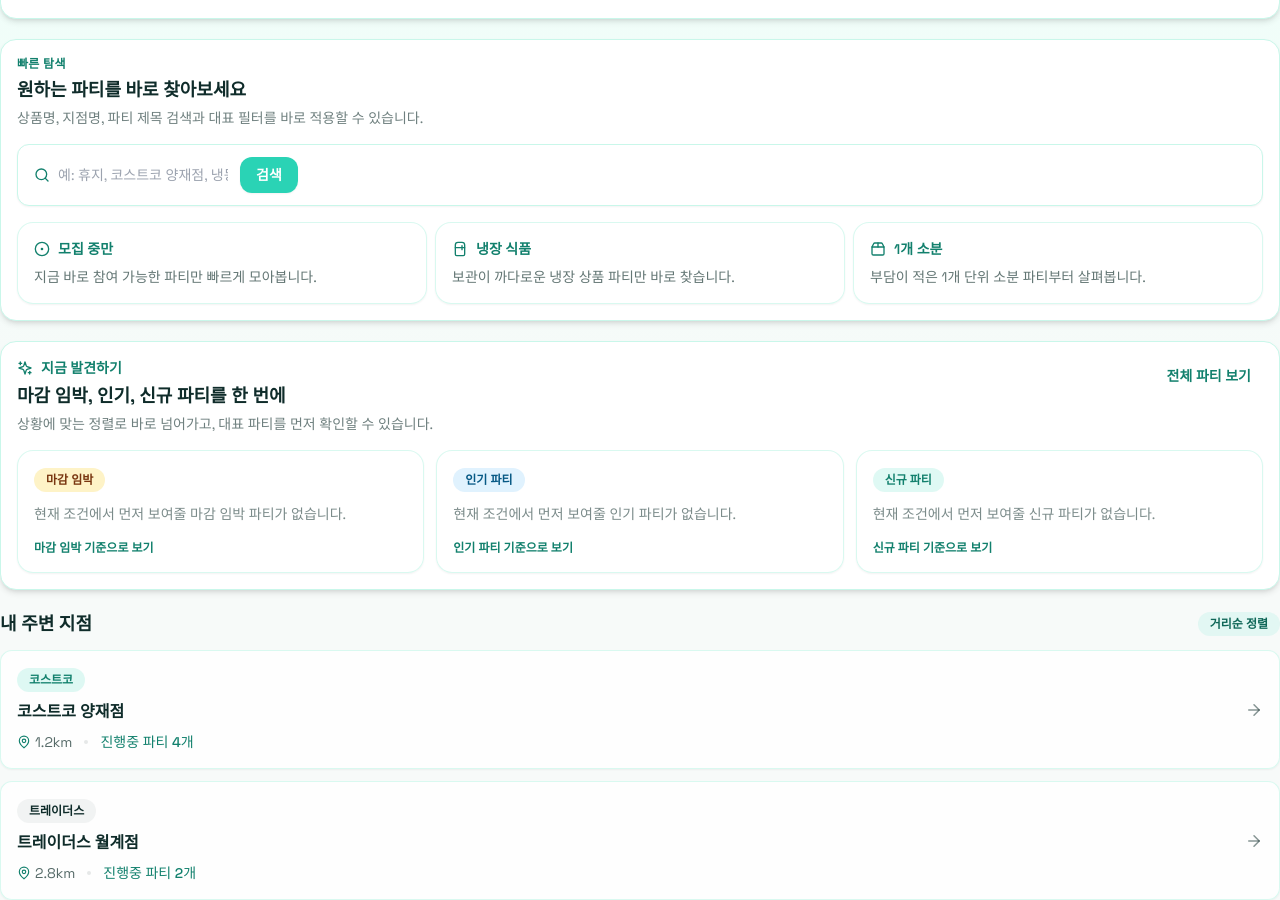
Scenario: Discovery and create flow › 홈_지점_탐색에서_생성_화면까지_선택한_지점을_유지한다
(page scrolled)
Click the button "트레이더스 트레이더스 월계점 2.8km 진행중 파티 2개".
click(640, 840)  # box [0,781,1279,899]
(page scrolled)
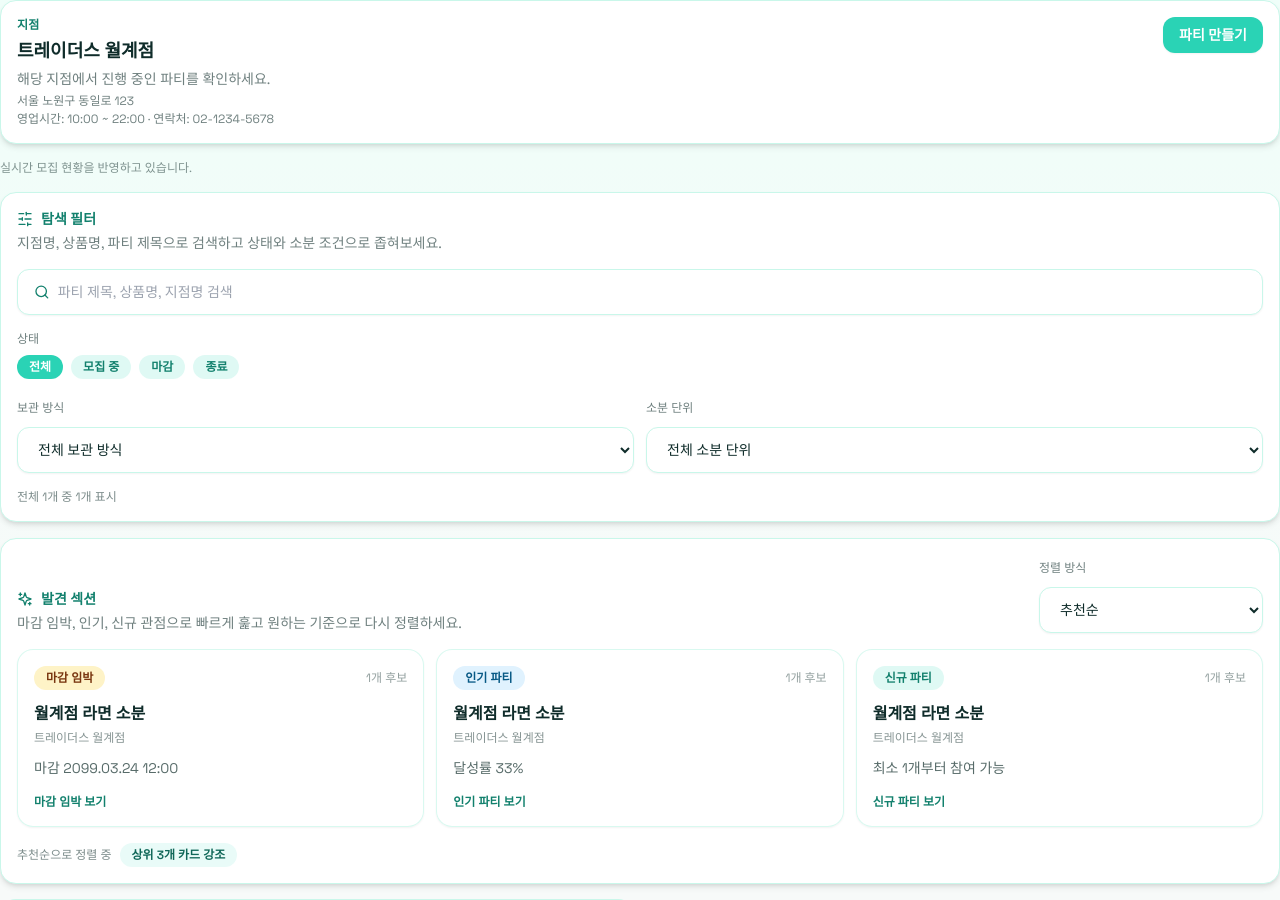
Expected: the heading "트레이더스 월계점" is shown, [17,39,154,62]
Click the button "파티 만들기".
click(1213, 35)  # box [1163,17,1263,53]
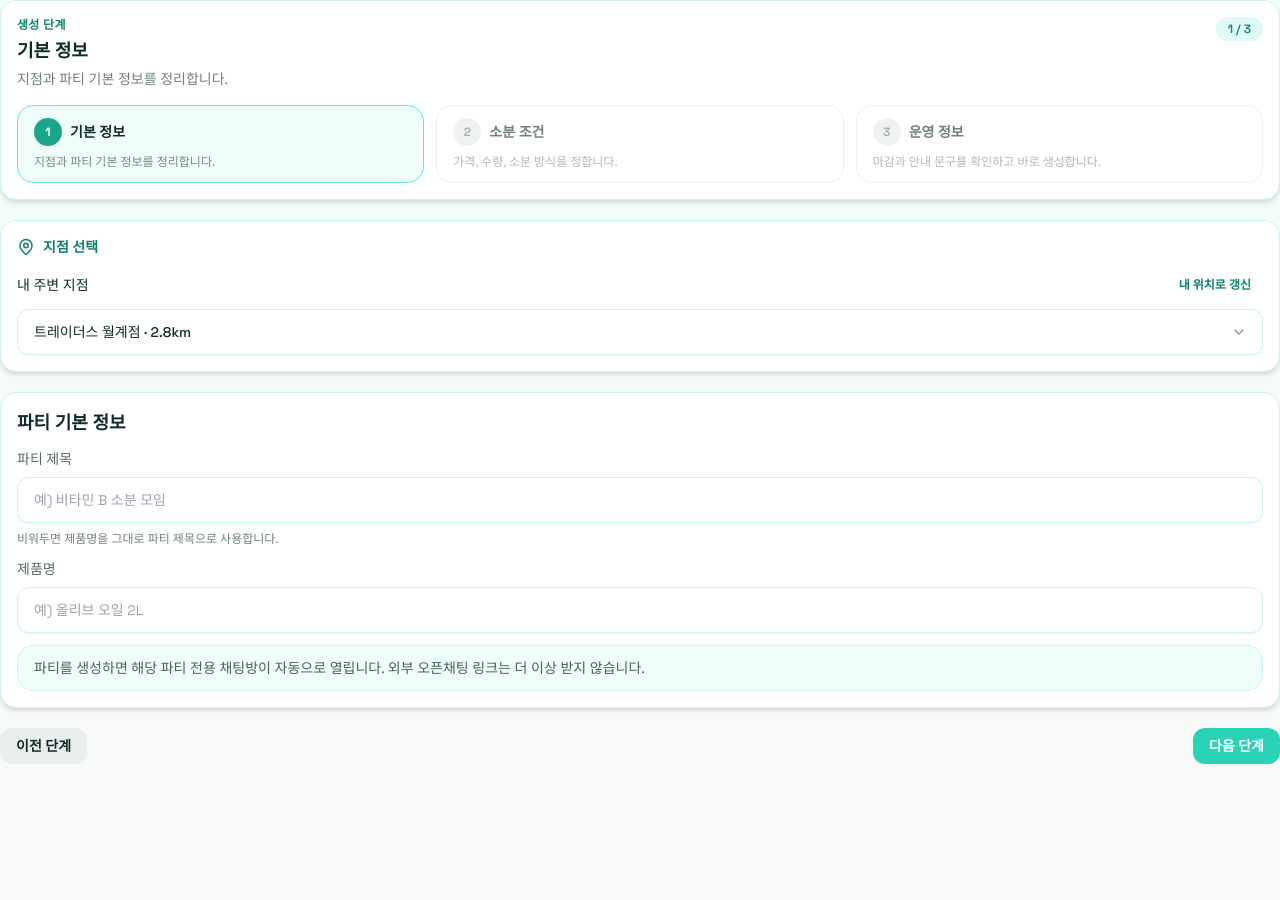
Expected: the heading "파티 기본 정보" is shown, [17,411,126,434]
Expected: the dropdown named "내 주변 지점" shows "트레이더스 월계점 · 2.8km", [17,309,1263,355]
